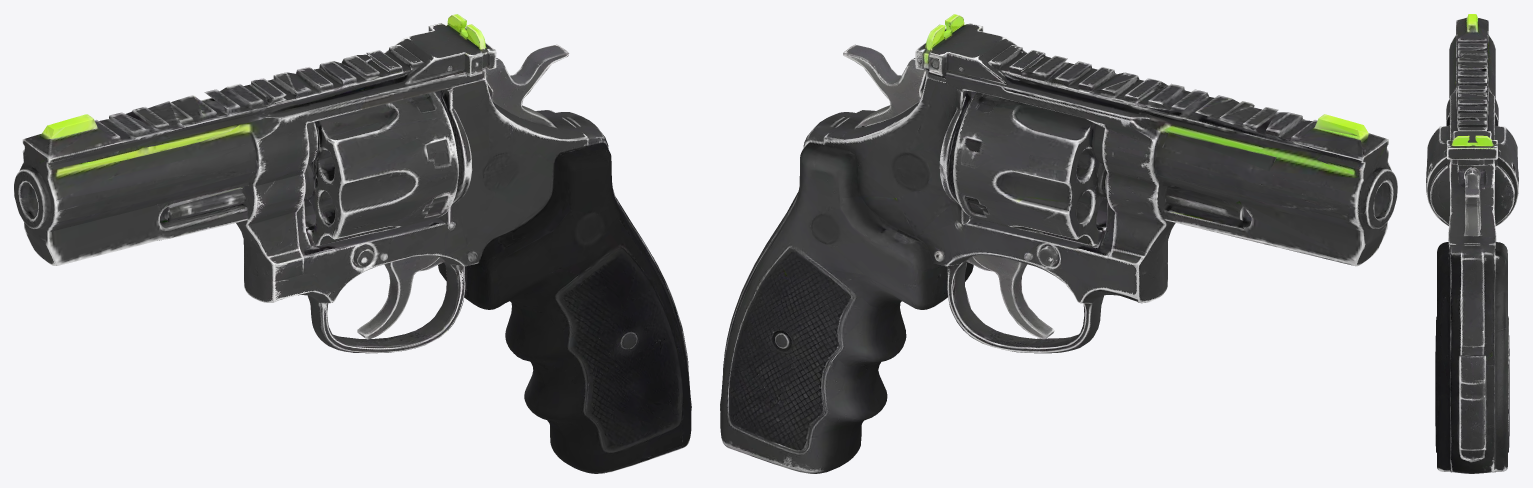
The model's file is gun_revolver.glb.
3 views of the same model, side by side, from view 1: azimuth 30°, elevation 25°; view 2: azimuth 150°, elevation 25°; view 3: azimuth 270°, elevation 25° (orthographic). The views are drawn at different scales.
Parts seen in each view (by area): view 1: Mesh_0; view 2: Mesh_0; view 3: Mesh_0.
Part boxes in pixels (bbox=[...]): Mesh_0: bbox=[14, 14, 691, 473]; Mesh_0: bbox=[720, 14, 1397, 473]; Mesh_0: bbox=[1426, 14, 1518, 473].
Bounding box in the file's own units: 1.9 × 1.29 × 0.3814.
Materials: 1 (1 with a texture image).
